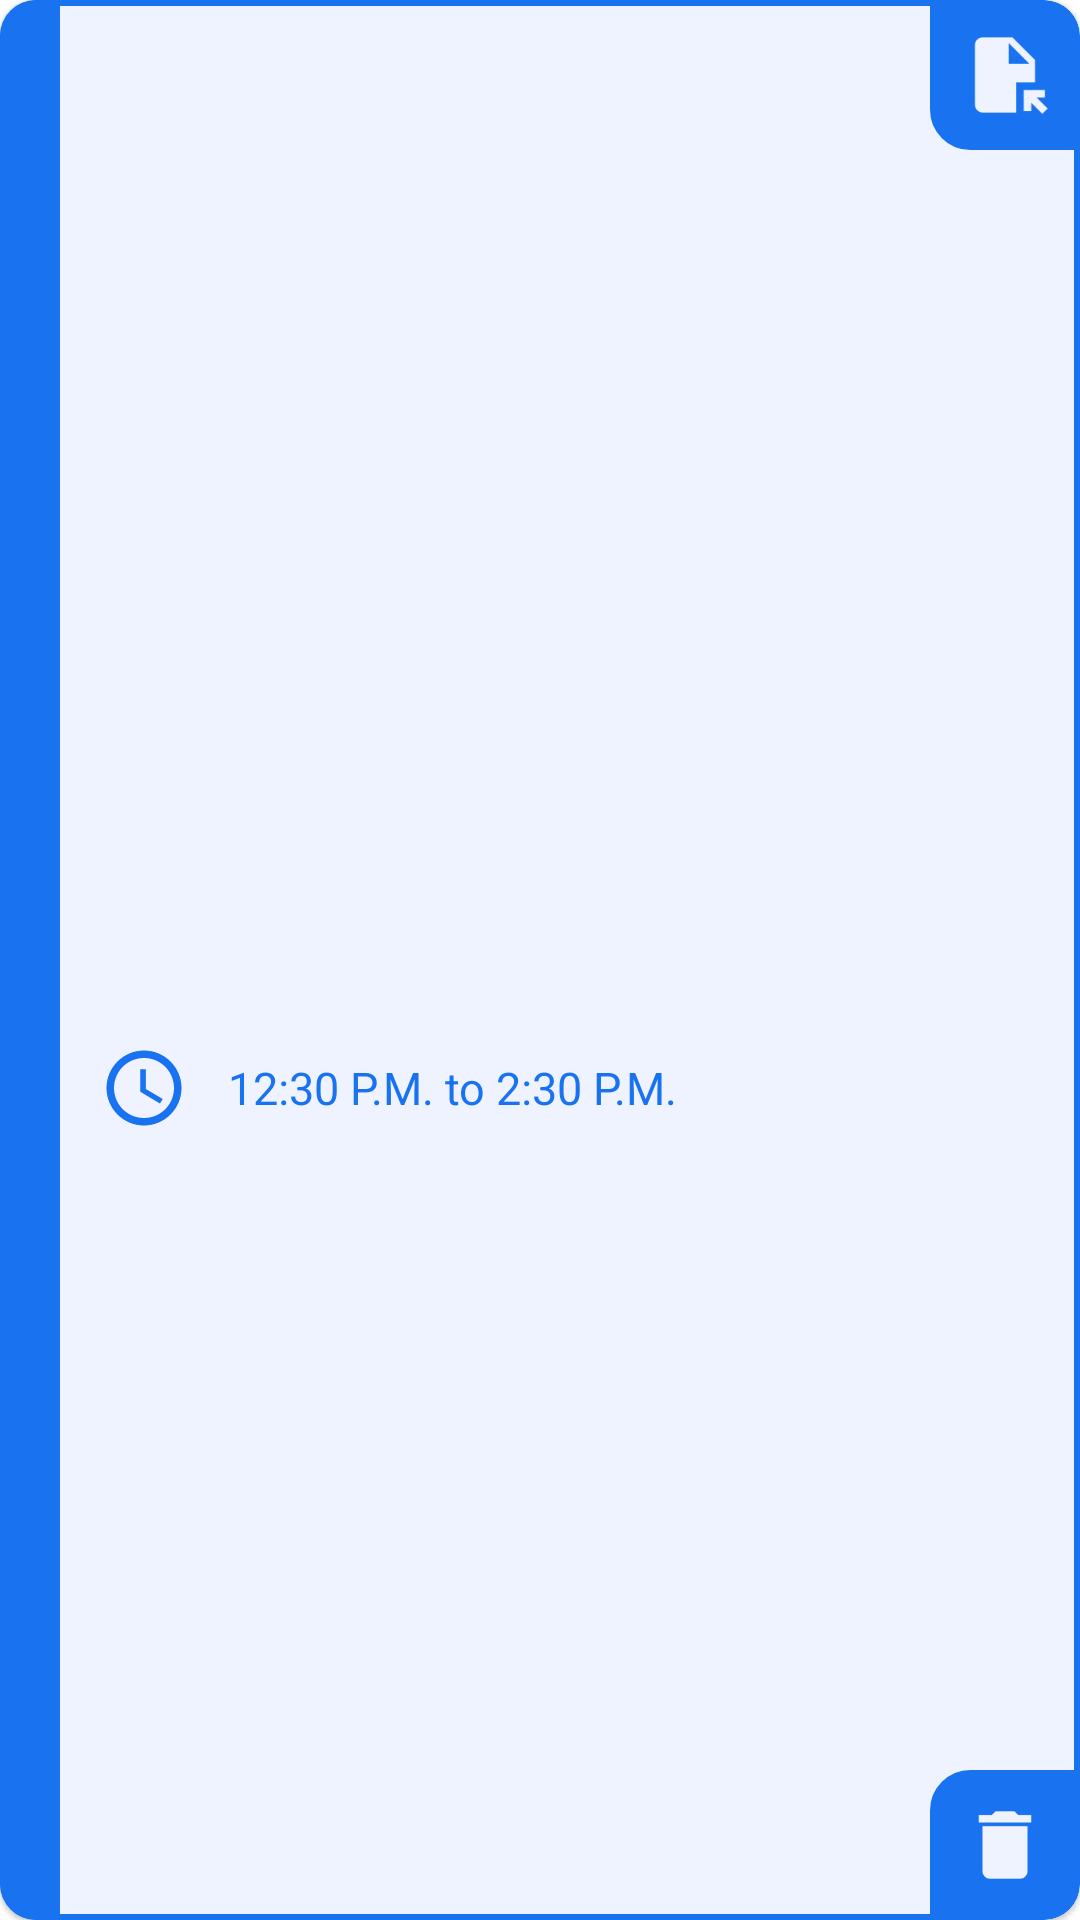

Where to tap for icons on this 1080×1920 app screen, as point (x, y):
access time: point (144, 1088)
delete 24menu: point (1005, 1845)
file open: point (1005, 75)
